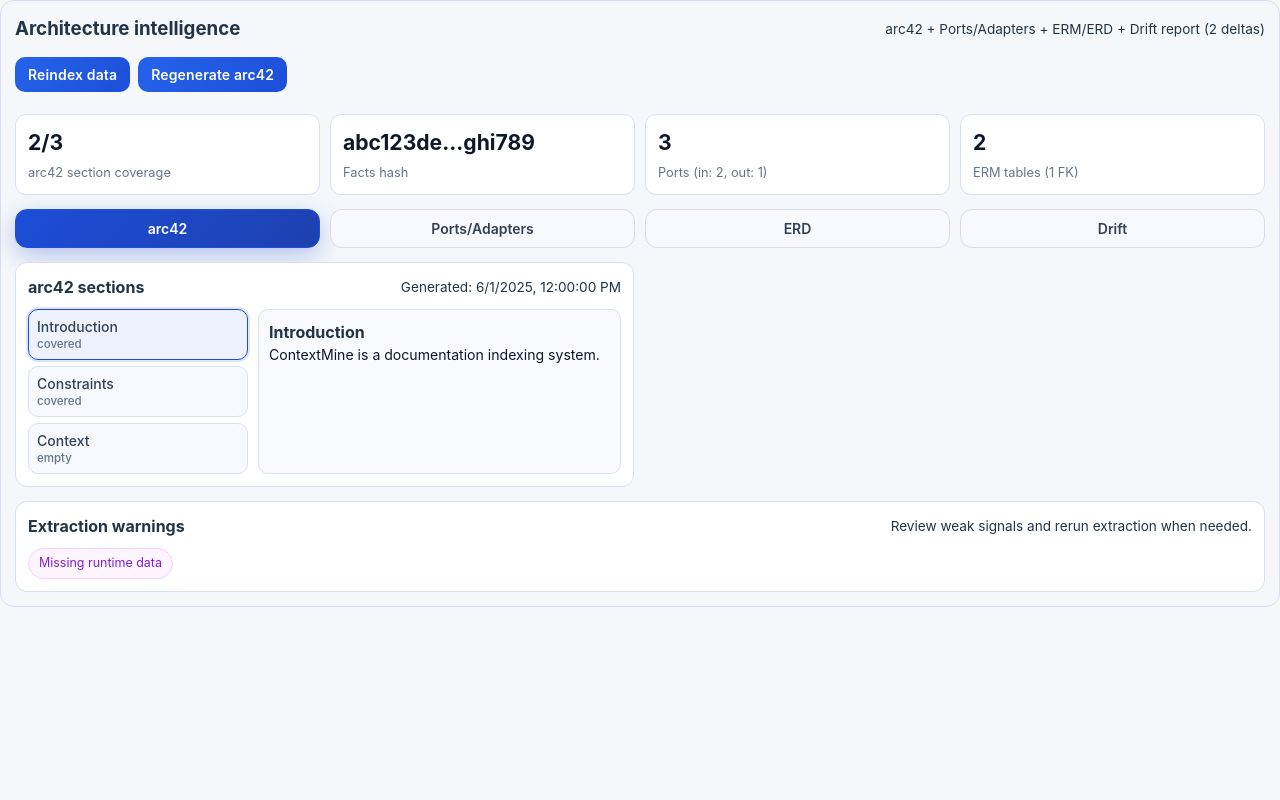
Test: ArchitectureView rendering › renders ERM section when ERD tab is clicked
Click the tab "ERD".
click(798, 228)  # box [645,209,950,248]
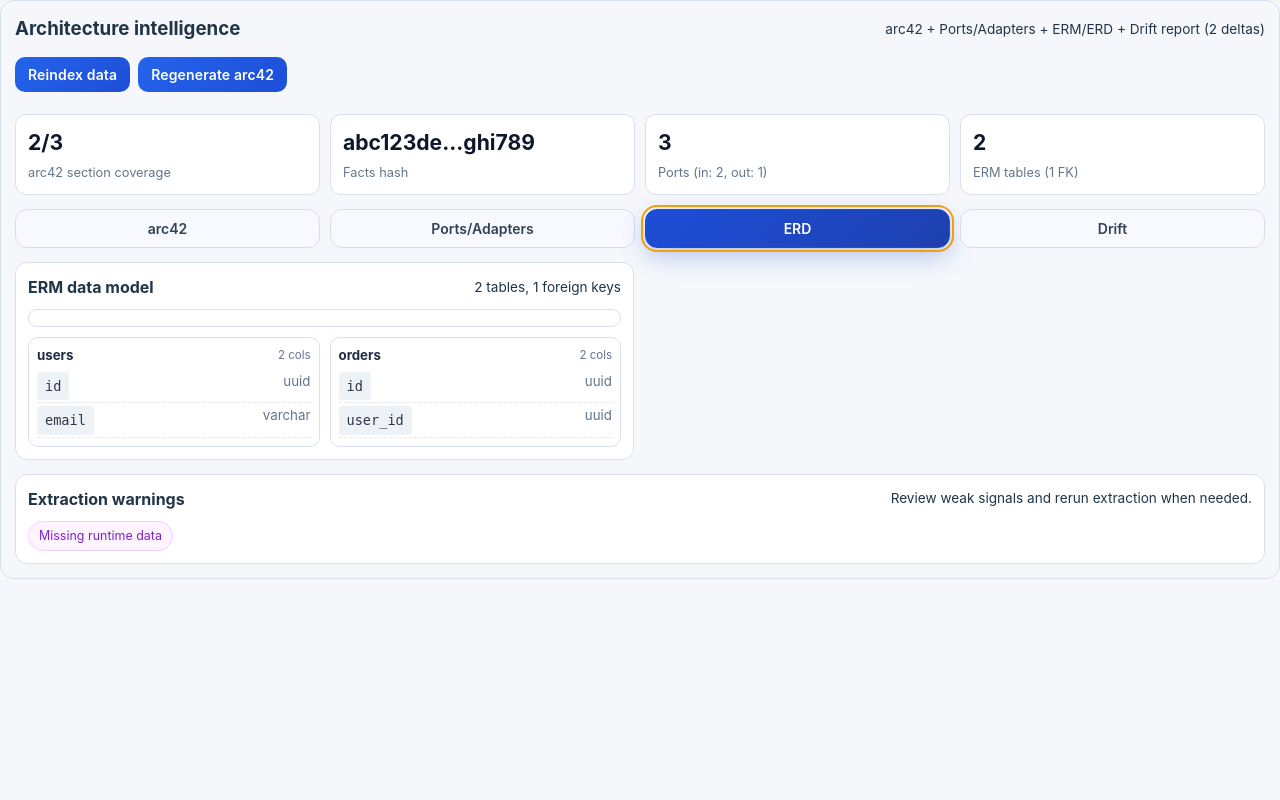
Now the heading "ERM data model" is shown, box [28,275,154,299]
Now the text "2 tables, 1 foreign keys" is shown, box [474,277,621,297]
